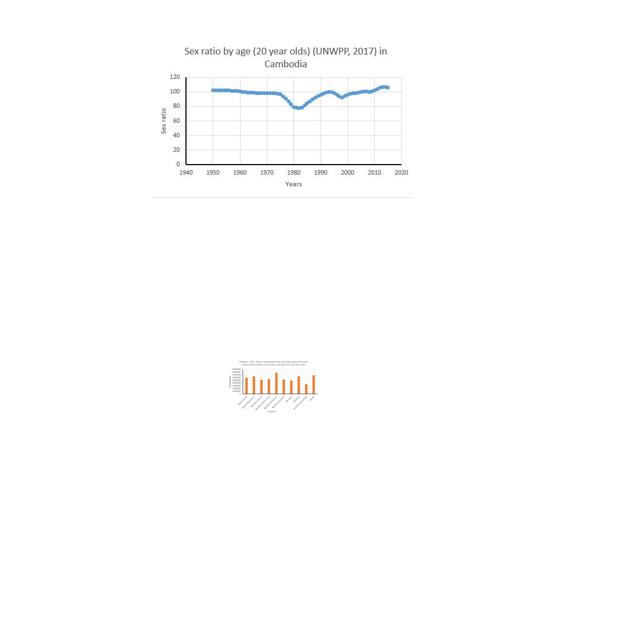Graph: (152, 40, 412, 198), (227, 359, 319, 414)
